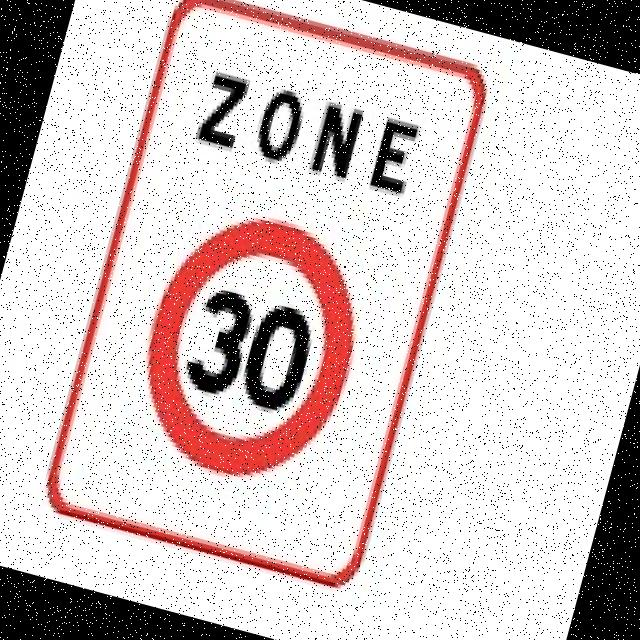speed_limit_30: (109, 187, 399, 516)
